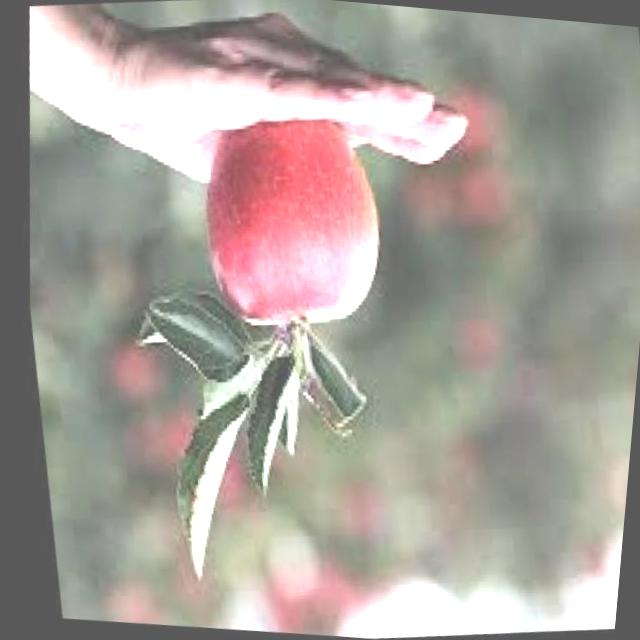Apple: (190, 81, 398, 334)
